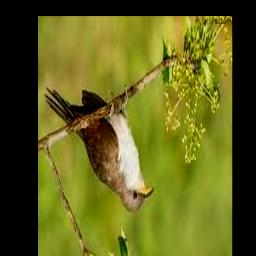Cuckoo: (44, 90, 154, 214)
